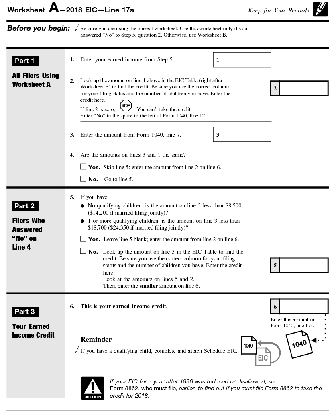checkbox: (79, 162, 87, 170), (79, 174, 87, 182), (79, 234, 87, 242), (79, 247, 87, 254)
textbox: (279, 297, 330, 316), (221, 51, 273, 69), (221, 125, 273, 143), (279, 79, 330, 97), (279, 256, 330, 274)
